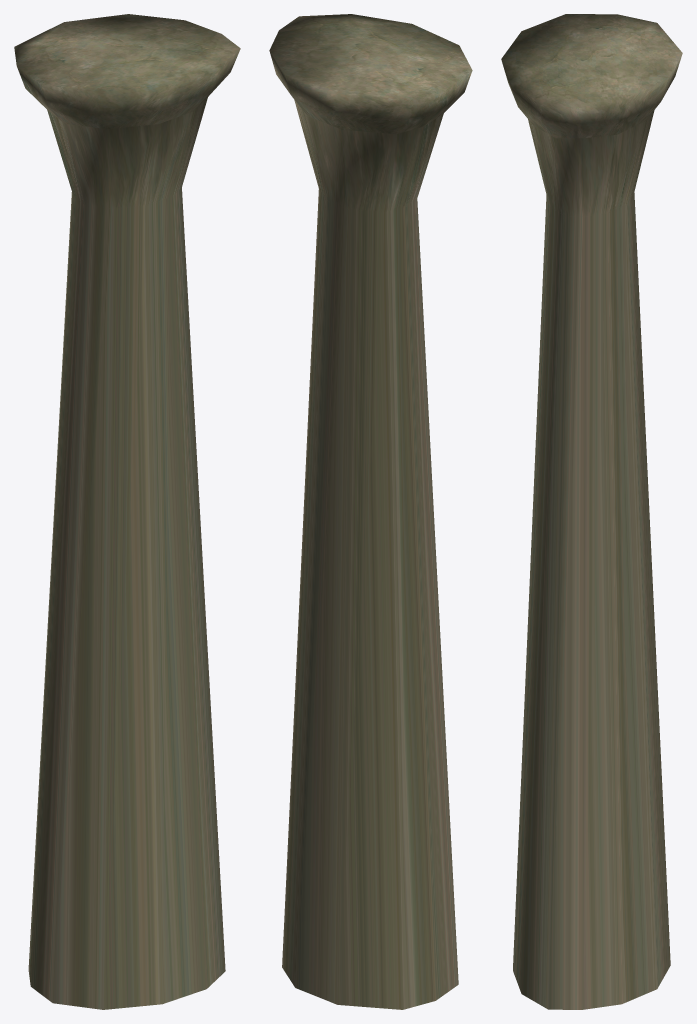
File: INST_OH_RUINPILLAR_01.fbx
The picture shows the model from 3 angles, left to right: view 1: azimuth 30°, elevation 25°; view 2: azimuth 150°, elevation 25°; view 3: azimuth 270°, elevation 25°; orthographic projection.
Parts seen in each view (by area): view 1: INST_OH_RUINPILLAR_01; view 2: INST_OH_RUINPILLAR_01; view 3: INST_OH_RUINPILLAR_01.
Part boxes in pixels (x1,y1,x2,y2): INST_OH_RUINPILLAR_01: (14,14,240,1009); INST_OH_RUINPILLAR_01: (269,14,472,1009); INST_OH_RUINPILLAR_01: (501,14,682,1009).
Size of the model in its own units: 18337 by 86868 by 15572.
Materials: 1 (1 with a texture image).
